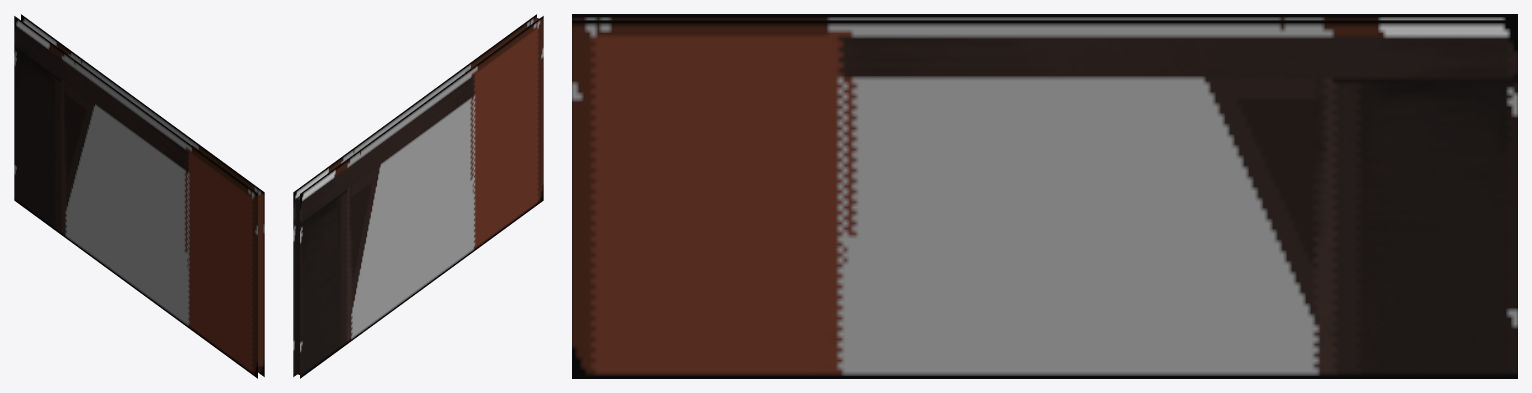
The model's file is pz_native_location_restaurant_seahorse_01_35_frame.obj.
3 views of the same model, side by side, from view 1: azimuth 30°, elevation 25°; view 2: azimuth 150°, elevation 25°; view 3: azimuth 270°, elevation 25° (orthographic). The views are drawn at different scales.
Visible parts, largest first — view 1: pz_native_location_restaurant_seahorse_01_35_frame; view 2: pz_native_location_restaurant_seahorse_01_35_frame; view 3: pz_native_location_restaurant_seahorse_01_35_frame.
Boxes of the visible parts, box(x1,y1,x2,y2) form: pz_native_location_restaurant_seahorse_01_35_frame: box(14, 14, 264, 378); pz_native_location_restaurant_seahorse_01_35_frame: box(293, 14, 543, 378); pz_native_location_restaurant_seahorse_01_35_frame: box(572, 14, 1517, 378).
Bounding box in the file's own units: 0.04 × 1.06 × 2.54.
1 material, 1 textured.
